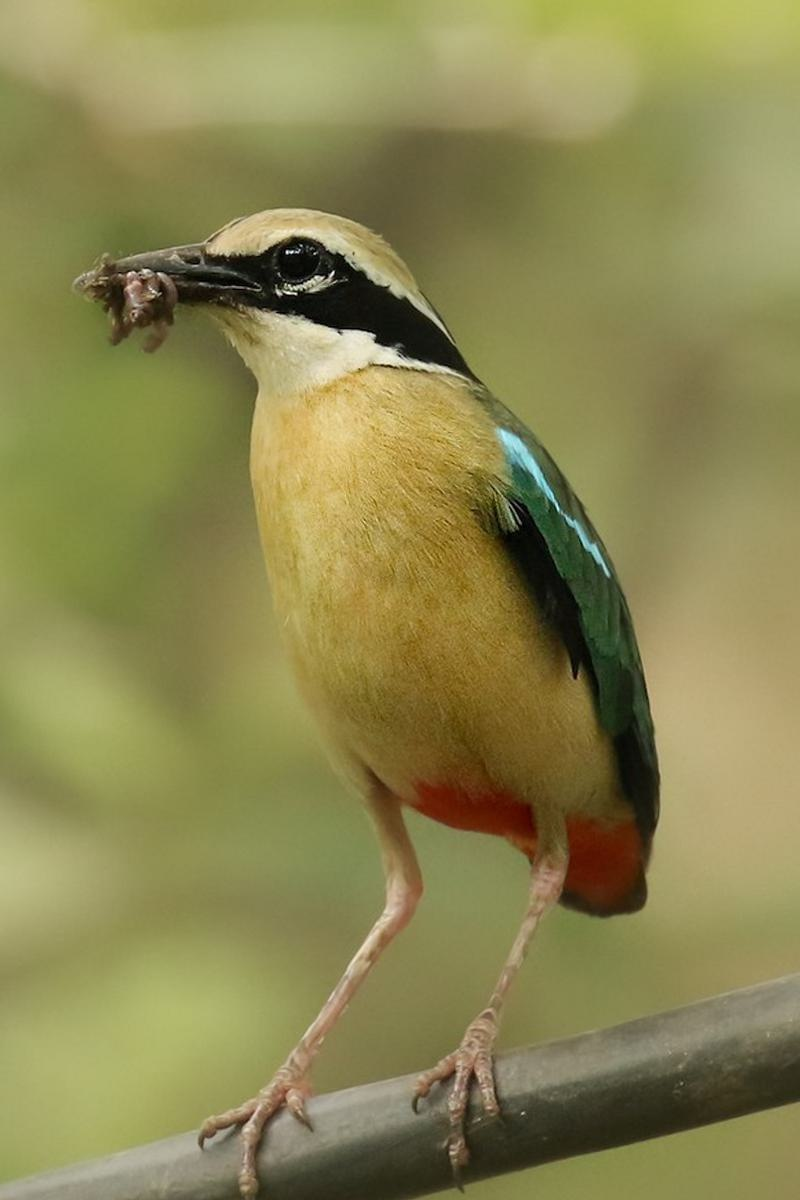pitta: (71, 183, 732, 1018)
